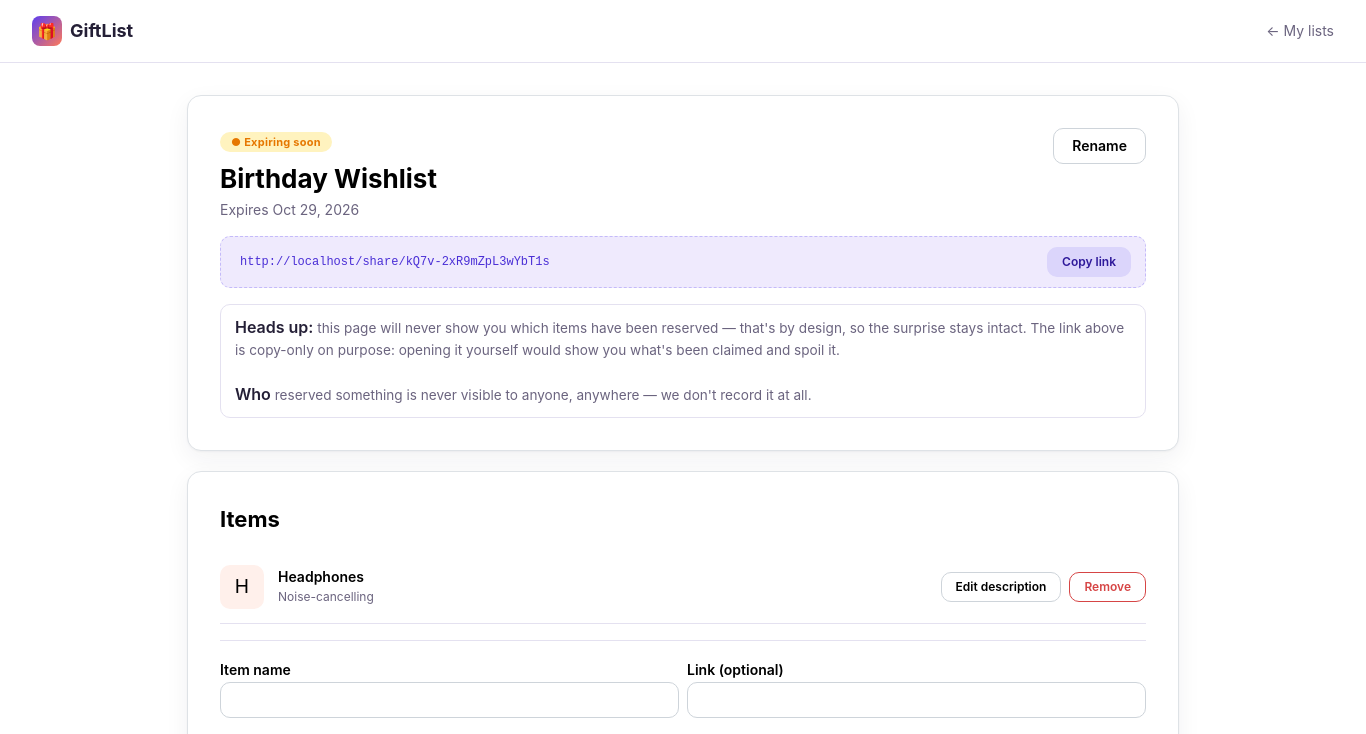
it: ListDetailOwnerPage › ListDetailOwnerPage_ShouldPrefillTheCurrentDescription_WhenEditDescriptionIsOpened
Click the button "Edit description": [1001, 587] box [941, 572, 1061, 602]
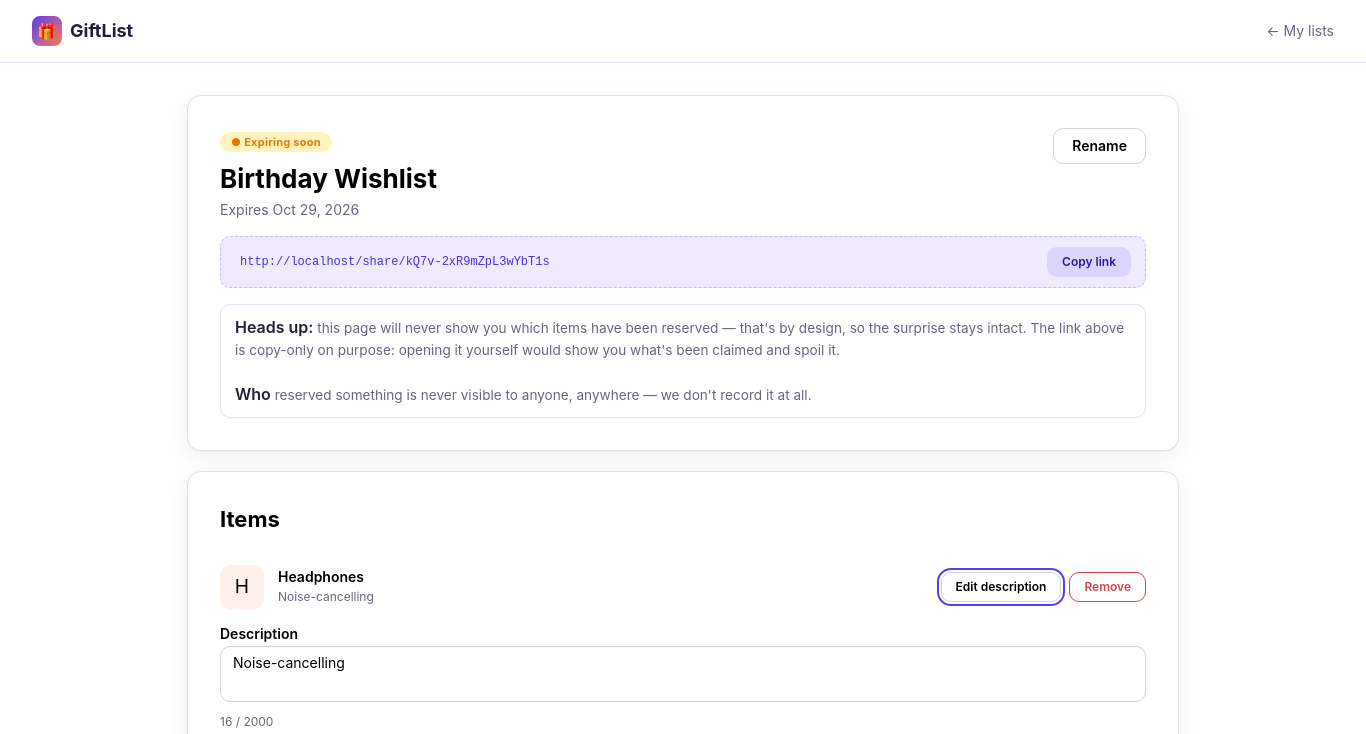
Expected: the text box labelled "Description" holds "Noise-cancelling", [220, 646, 1146, 702]
